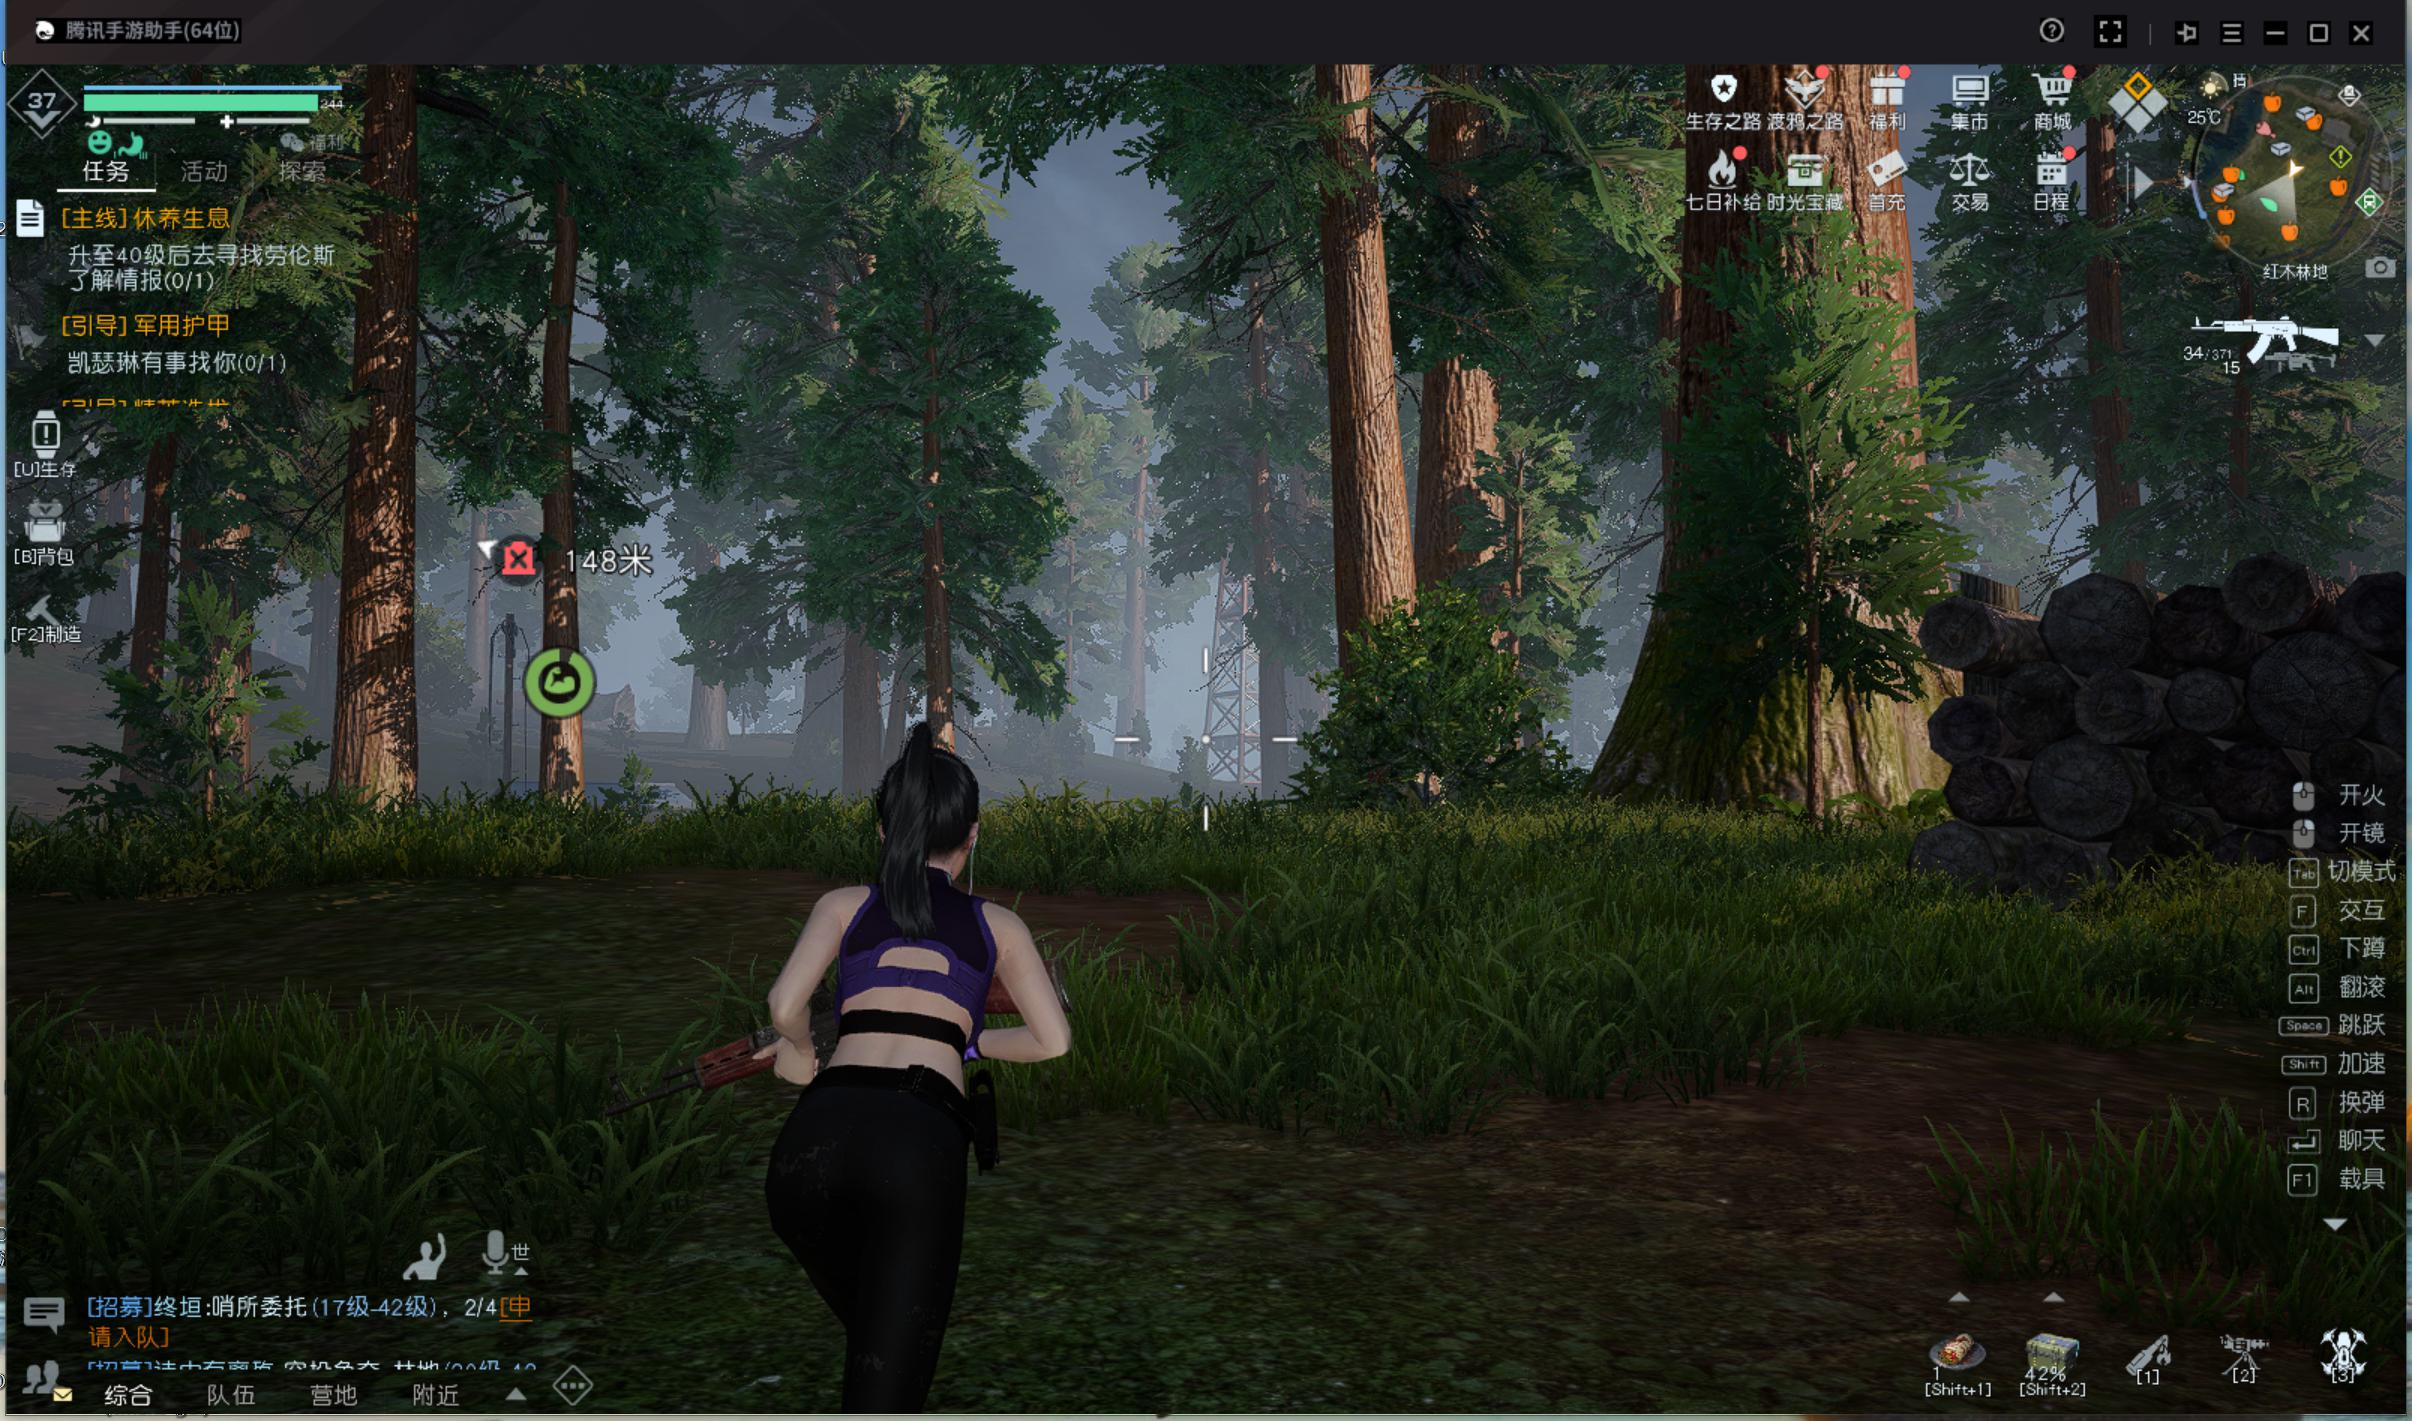tree: (1653, 188, 1943, 836), (328, 240, 423, 853), (1318, 249, 1414, 826), (534, 328, 599, 861)
